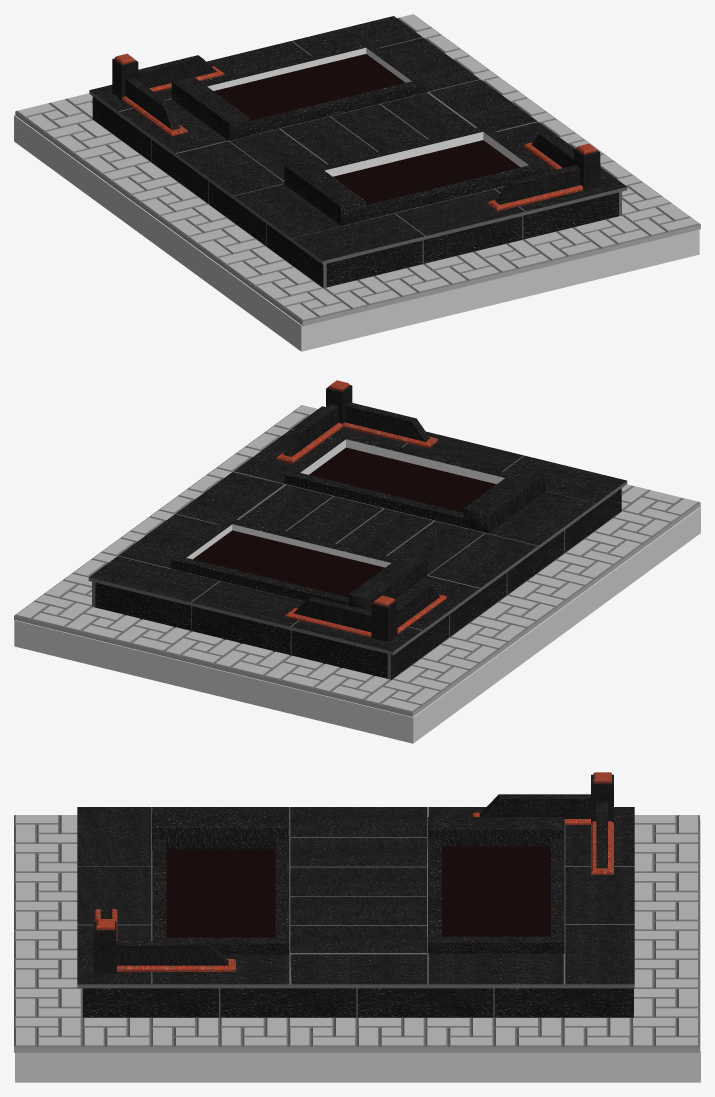
The model's file is 240-180-15 черн угл крас [u_2_u].glb.
The picture shows the model from 3 angles, top to bottom: view 1: azimuth 30°, elevation 25°; view 2: azimuth 150°, elevation 25°; view 3: azimuth 270°, elevation 25°; orthographic projection. The views are drawn at different scales.
Visible parts, largest first — view 1: plitka.003, Cube.163, Cube.165, Cube.167, Куб.219, Cube.168, Plane.011, Plane.007, Куб.231, Cube.171, Куб.004, Куб.226 (+13 smaller); view 2: plitka.003, Cube.163, Cube.165, Cube.171, Куб.207, Cube.168, Plane.011, Plane.007, Куб.231, Cube.167, Куб.004, Куб.214 (+13 smaller); view 3: plitka.003, Cube.165, Cube.163, Куб.230, Cube.168, Cube.167, Cube.171, Plane.011, Plane.007, Куб.004, Куб.226, Cube.177 (+12 smaller).
Part boxes in pixels (left/top/right/bottom): plitka.003: left=15, top=14, right=700, bottom=326; Cube.163: left=14, top=115, right=699, bottom=351; Cube.165: left=117, top=92, right=474, bottom=241; Cube.167: left=291, top=167, right=627, bottom=264; Куб.219: left=323, top=192, right=618, bottom=287; Cube.168: left=380, top=37, right=574, bottom=172; Plane.011: left=213, top=54, right=405, bottom=120; Plane.007: left=333, top=140, right=520, bottom=204; Куб.231: left=92, top=96, right=322, bottom=287; Cube.171: left=89, top=16, right=422, bottom=113; Куб.004: left=284, top=159, right=365, bottom=225; Куб.226: left=171, top=76, right=249, bottom=140; plitka.003: left=14, top=405, right=700, bottom=716; Cube.163: left=14, top=507, right=700, bottom=743; Cube.165: left=239, top=484, right=596, bottom=634; Cube.171: left=88, top=555, right=422, bottom=655; Куб.207: left=95, top=582, right=390, bottom=679; Cube.168: left=118, top=429, right=332, bottom=568; Plane.011: left=193, top=530, right=384, bottom=597; Plane.007: left=309, top=447, right=496, bottom=512; Куб.231: left=390, top=489, right=621, bottom=679; Cube.167: left=291, top=406, right=627, bottom=506; Куб.004: left=464, top=466, right=545, bottom=533; Куб.214: left=294, top=473, right=464, bottom=527; plitka.003: left=14, top=815, right=699, bottom=1052; Cube.165: left=151, top=807, right=485, bottom=953; Cube.163: left=15, top=819, right=700, bottom=1082; Куб.230: left=82, top=988, right=633, bottom=1017; Cube.168: left=151, top=953, right=563, bottom=988; Cube.167: left=77, top=807, right=152, bottom=988; Cube.171: left=563, top=807, right=634, bottom=988; Plane.011: left=441, top=846, right=550, bottom=936; Plane.007: left=166, top=849, right=275, bottom=937; Куб.004: left=152, top=813, right=289, bottom=849; Куб.226: left=427, top=817, right=564, bottom=849; Cube.177: left=116, top=941, right=228, bottom=966.
Bounding box in the file's own units: 2.41 × 0.564 × 3.
Materials: 9 (4 with a texture image).
